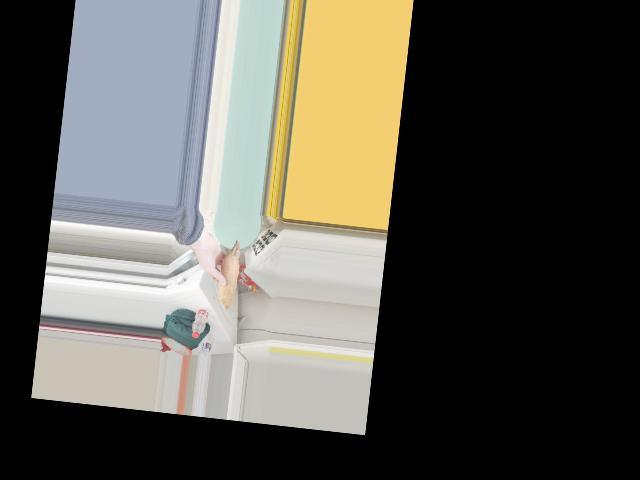sweet_potato: (211, 239, 241, 301)
